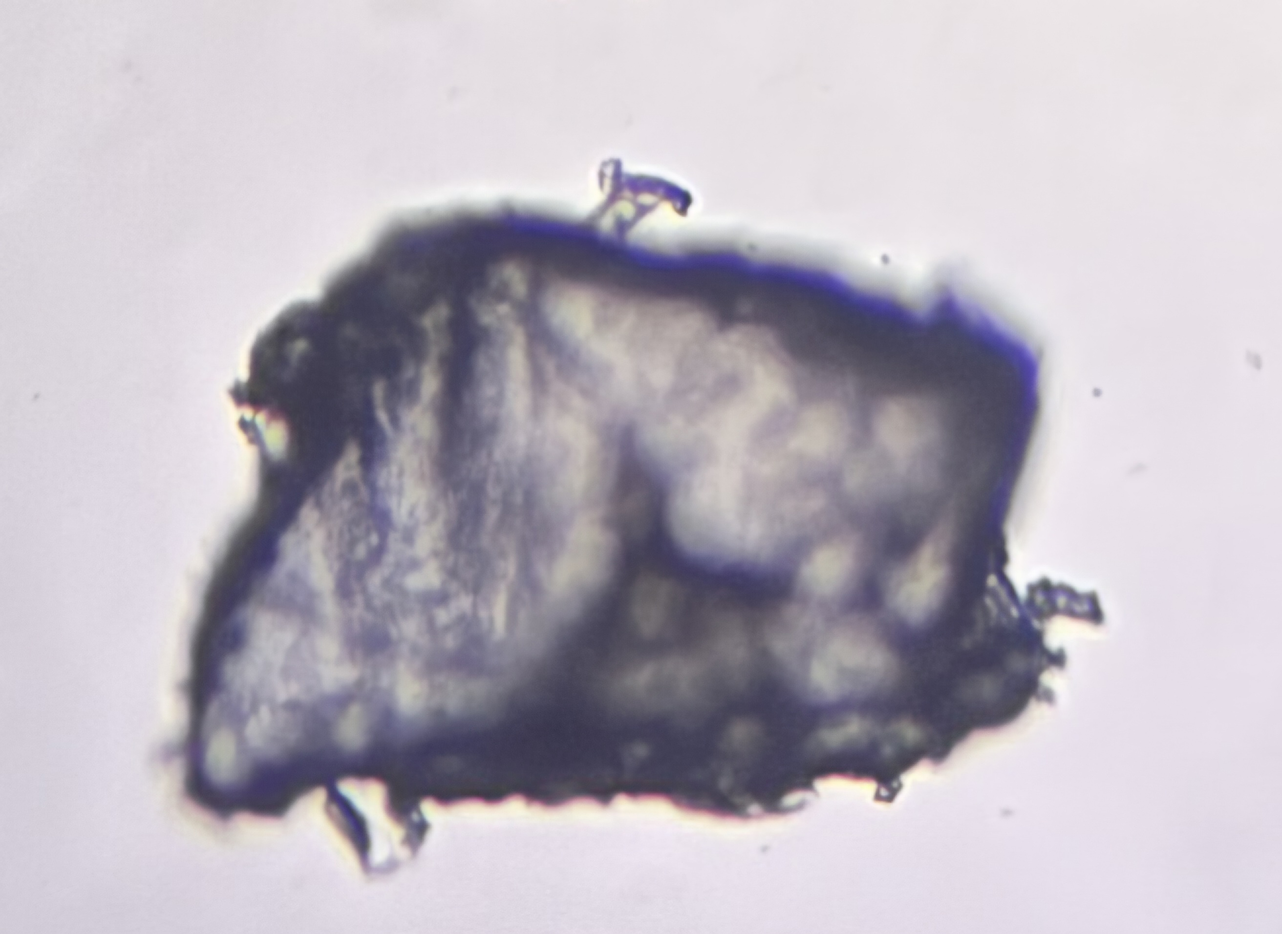microplastic: (156, 160, 1106, 879)
